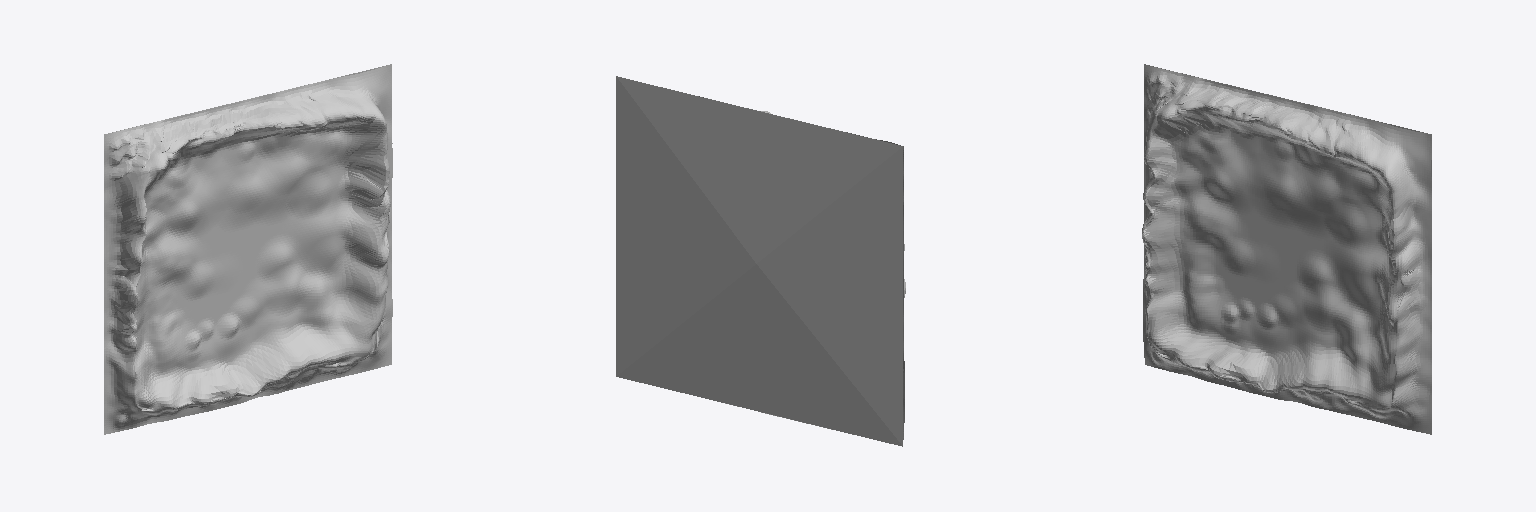
The model's file is ground4p.obj.
3 views of the same model, side by side, from view 1: azimuth 30°, elevation 25°; view 2: azimuth 150°, elevation 25°; view 3: azimuth 330°, elevation 25° (orthographic).
Visible parts, largest first — view 1: Ground.003.010, Ground.015.014, Ground.011.015, Ground.009.001, Ground.004.007, Ground.004.005, Ground.006.002, Ground.011.002, Ground.002.013, Ground.013.003, Ground.011.009, Ground.004.010 (+22 smaller); view 2: Bottom; view 3: Ground.009.001, Ground.001.012, Ground.010.011, Ground.005.006, Ground.010.012, Ground.006.008, Ground.005.012, Ground.003.011, Ground.005.003, Ground.009.006, Ground.004.001, Ground.006.004 (+13 smaller).
Part boxes in pixels (left/top/right/bottom): Ground.003.010: left=248, top=342, right=279, bottom=375; Ground.015.014: left=124, top=148, right=156, bottom=177; Ground.011.015: left=341, top=266, right=376, bottom=291; Ground.009.001: left=266, top=90, right=300, bottom=123; Ground.004.007: left=104, top=264, right=135, bottom=294; Ground.004.005: left=104, top=244, right=138, bottom=269; Ground.006.002: left=230, top=363, right=260, bottom=396; Ground.011.002: left=342, top=229, right=377, bottom=252; Ground.002.013: left=339, top=188, right=380, bottom=208; Ground.013.003: left=345, top=304, right=373, bottom=331; Ground.011.009: left=341, top=247, right=380, bottom=270; Ground.004.010: left=104, top=224, right=137, bottom=253; Bottom: left=616, top=76, right=902, bottom=446; Ground.009.001: left=1290, top=104, right=1325, bottom=137; Ground.001.012: left=1162, top=322, right=1194, bottom=350; Ground.010.011: left=1412, top=131, right=1431, bottom=170; Ground.005.006: left=1146, top=246, right=1180, bottom=269; Ground.010.012: left=1381, top=150, right=1413, bottom=178; Ground.006.008: left=1236, top=356, right=1269, bottom=384; Ground.005.012: left=1148, top=282, right=1182, bottom=306; Ground.003.011: left=1310, top=354, right=1341, bottom=384; Ground.005.003: left=1146, top=265, right=1182, bottom=287; Ground.009.006: left=1274, top=99, right=1305, bottom=131; Ground.004.001: left=1144, top=188, right=1178, bottom=210; Ground.006.004: left=1214, top=350, right=1242, bottom=380.
Bounding box in the file's own units: 1006 × 1005 × 138.